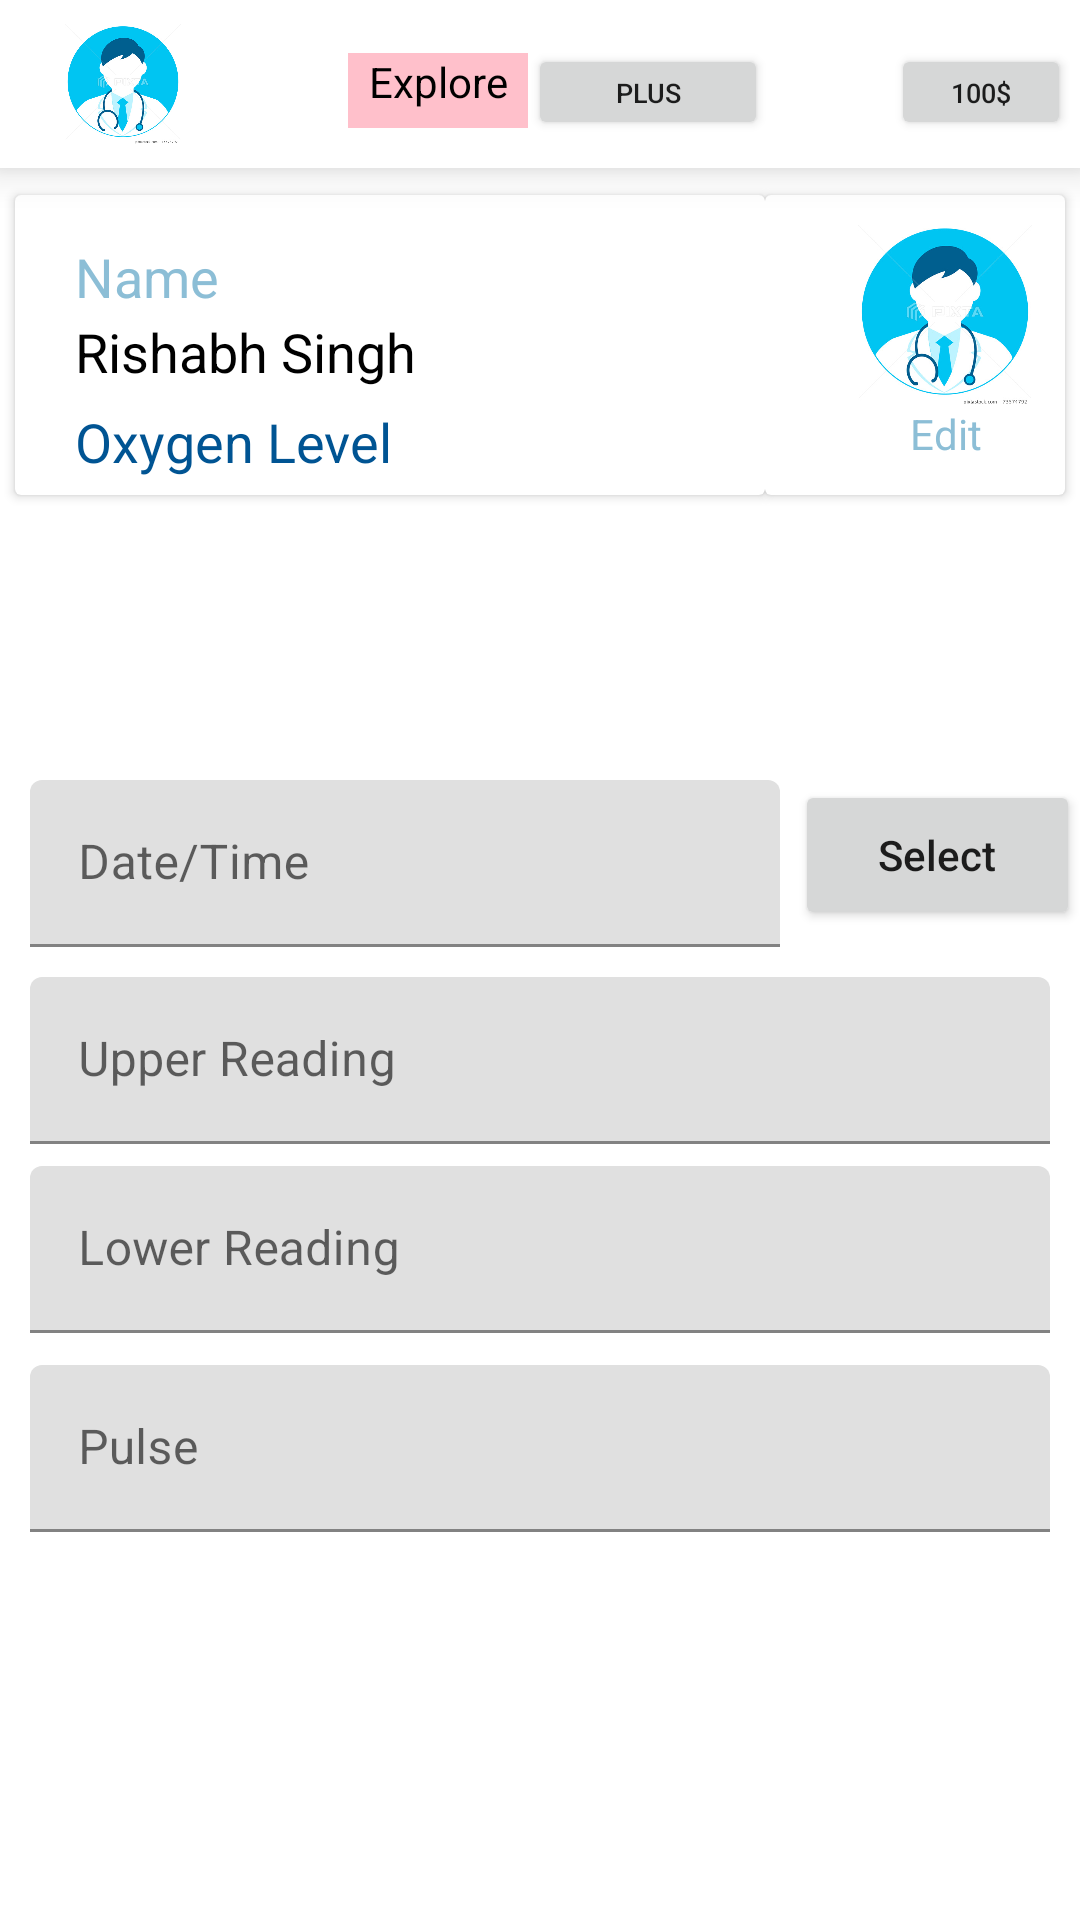

Icons on this 1080×1920 Android screen, each with the point to tap as [x,y]:
doc: [123,84], [945,316]
